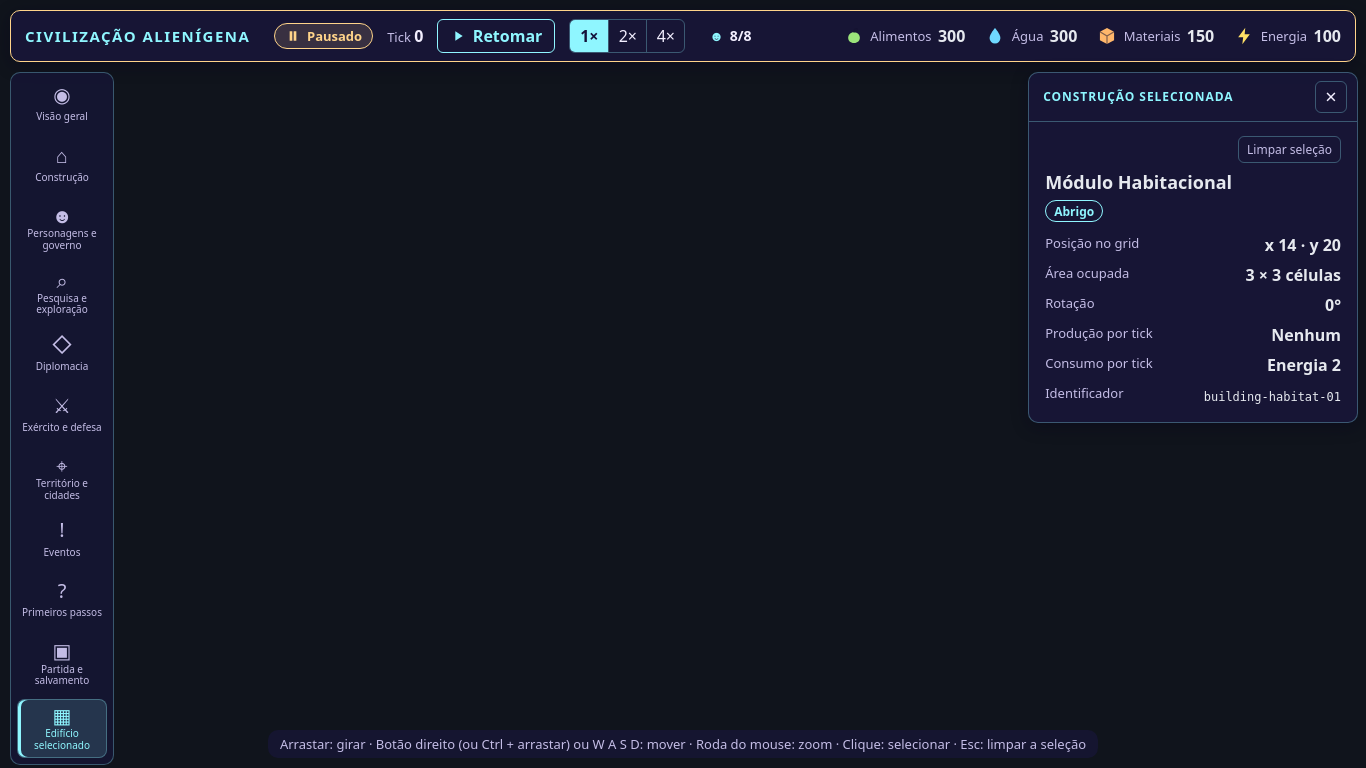
Test: GameHUD › abre os detalhes quando um edifício é selecionado e limpa a seleção pelo painel
The image size is (1366, 768).
Check: the element named "Construção selecionada" is shown, box [1029,122,1357,422]
Click the button "Limpar seleção" at (1290, 149), box [1238,136,1341,163]
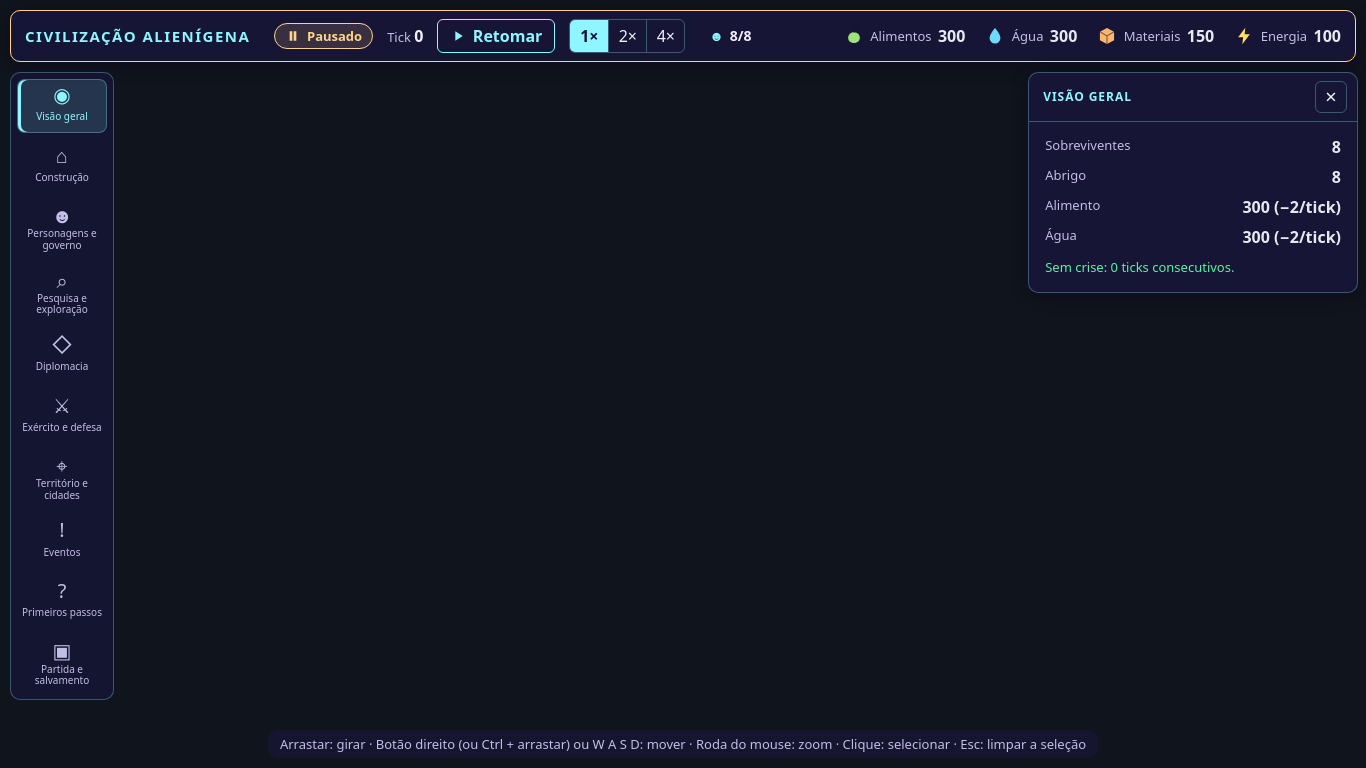
Check: the element named "Sobrevivência" is shown, box [1029,122,1357,292]
